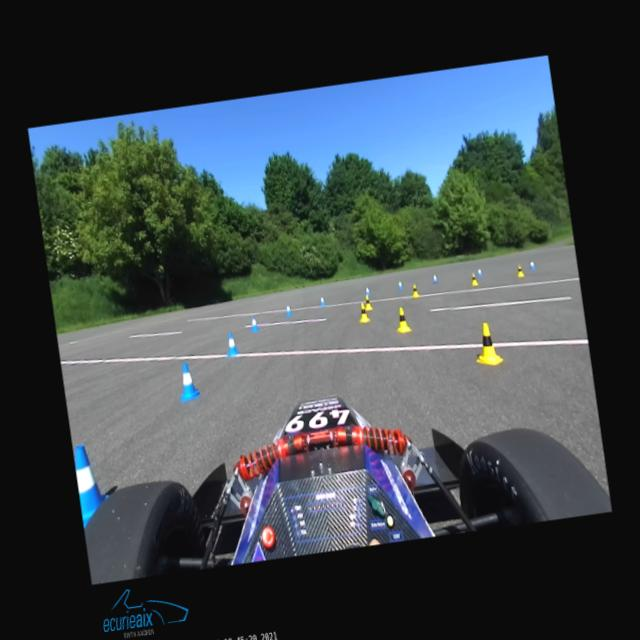blue_cone: (73, 442, 113, 528), (176, 362, 201, 402), (225, 332, 239, 357), (249, 316, 260, 332), (286, 304, 292, 316), (529, 260, 536, 270), (397, 280, 404, 290), (319, 296, 326, 306), (432, 271, 438, 282), (366, 286, 370, 296), (478, 268, 482, 276)
yellow_cone: (472, 321, 504, 368), (394, 306, 412, 334), (357, 302, 370, 322), (363, 295, 373, 311), (516, 264, 525, 277), (412, 284, 419, 298), (471, 274, 478, 286)
